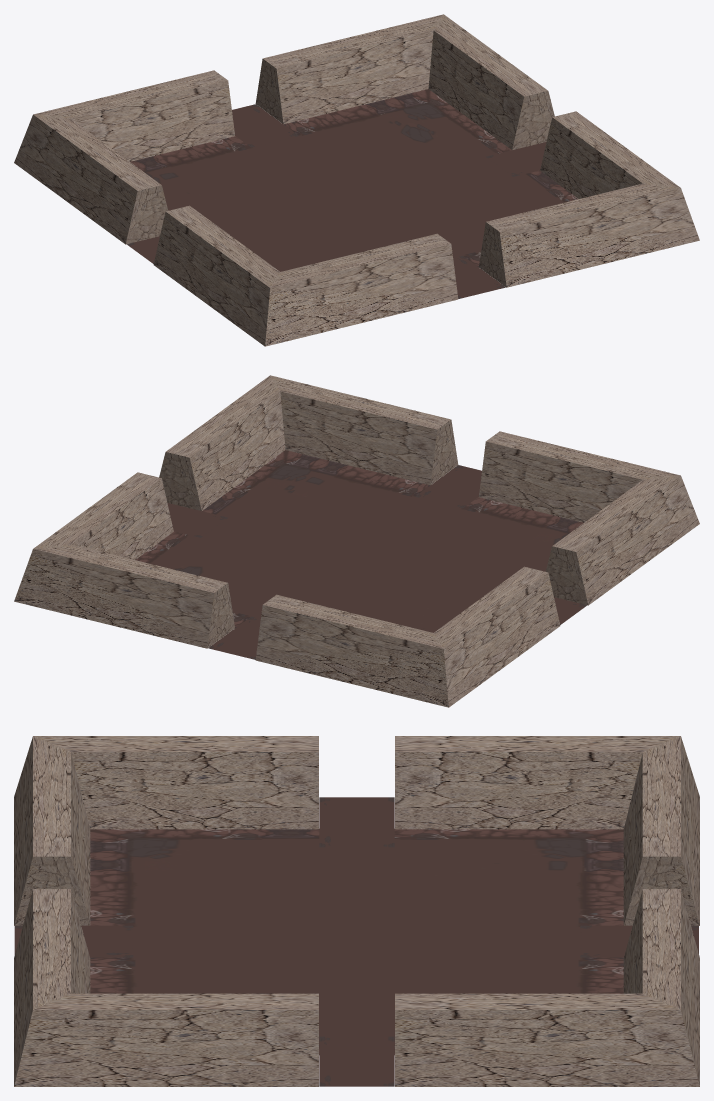
The model's file is sala_15.obj.
3 views of the same model, one above another, from view 1: azimuth 30°, elevation 25°; view 2: azimuth 150°, elevation 25°; view 3: azimuth 270°, elevation 25° (orthographic). The views are drawn at different scales.
Parts seen in each view (by area): view 1: Ground_Plane, Wall.000_Cube.011, Wall.007_Cube.017, Wall.002_Cube.014, Wall.004_Cube.015, Wall.005_Cube.002, Wall.003_Cube.010, Wall.006_Cube.016, Wall.001_Cube.012, Plane.001_Plane.007, Plane.002_Plane.008, Plane.003_Plane.005; view 2: Ground_Plane, Wall.002_Cube.014, Wall.005_Cube.002, Wall.000_Cube.011, Wall.006_Cube.016, Wall.007_Cube.017, Wall.001_Cube.012, Wall.004_Cube.015, Wall.003_Cube.010, Plane.002_Plane.008, Plane.001_Plane.007, Plane.003_Plane.005; view 3: Ground_Plane, Wall.003_Cube.010, Wall.001_Cube.012, Wall.004_Cube.015, Wall.006_Cube.016, Wall.005_Cube.002, Wall.007_Cube.017, Wall.000_Cube.011, Wall.002_Cube.014, Plane.003_Plane.005, Plane.000_Plane.006, Plane.002_Plane.008 (+1 smaller).
Boxes of the visible parts, bbox=[...] form: Ground_Plane: bbox=[130, 89, 578, 271]; Wall.000_Cube.011: bbox=[479, 183, 699, 287]; Wall.007_Cube.017: bbox=[265, 233, 458, 346]; Wall.002_Cube.014: bbox=[255, 14, 443, 124]; Wall.004_Cube.015: bbox=[14, 114, 168, 244]; Wall.005_Cube.002: bbox=[33, 70, 234, 161]; Wall.003_Cube.010: bbox=[428, 14, 554, 150]; Wall.006_Cube.016: bbox=[153, 205, 279, 346]; Wall.001_Cube.012: bbox=[540, 111, 680, 198]; Plane.001_Plane.007: bbox=[232, 104, 298, 147]; Plane.002_Plane.008: bbox=[453, 255, 505, 298]; Plane.003_Plane.005: bbox=[486, 142, 546, 176]; Ground_Plane: bbox=[135, 450, 583, 632]; Wall.002_Cube.014: bbox=[14, 544, 234, 648]; Wall.005_Cube.002: bbox=[255, 594, 448, 707]; Wall.000_Cube.011: bbox=[270, 375, 458, 485]; Wall.006_Cube.016: bbox=[545, 475, 699, 605]; Wall.007_Cube.017: bbox=[479, 431, 680, 522]; Wall.001_Cube.012: bbox=[159, 375, 285, 510]; Wall.004_Cube.015: bbox=[434, 566, 560, 707]; Wall.003_Cube.010: bbox=[33, 472, 173, 559]; Plane.002_Plane.008: bbox=[415, 465, 481, 508]; Plane.001_Plane.007: bbox=[208, 616, 260, 659]; Plane.003_Plane.005: bbox=[167, 503, 227, 537]; Ground_Plane: bbox=[90, 829, 623, 1054]; Wall.003_Cube.010: bbox=[395, 993, 699, 1086]; Wall.001_Cube.012: bbox=[14, 993, 318, 1086]; Wall.004_Cube.015: bbox=[395, 736, 680, 829]; Wall.006_Cube.016: bbox=[33, 736, 318, 829]; Wall.005_Cube.002: bbox=[623, 736, 699, 925]; Wall.007_Cube.017: bbox=[14, 736, 90, 925]; Wall.000_Cube.011: bbox=[14, 889, 90, 1085]; Wall.002_Cube.014: bbox=[623, 889, 699, 1085]; Plane.003_Plane.005: bbox=[319, 1036, 394, 1086]; Plane.000_Plane.006: bbox=[319, 797, 394, 847]; Plane.002_Plane.008: bbox=[14, 925, 133, 957].
Size of the model in its own units: 18 by 2 by 18.
